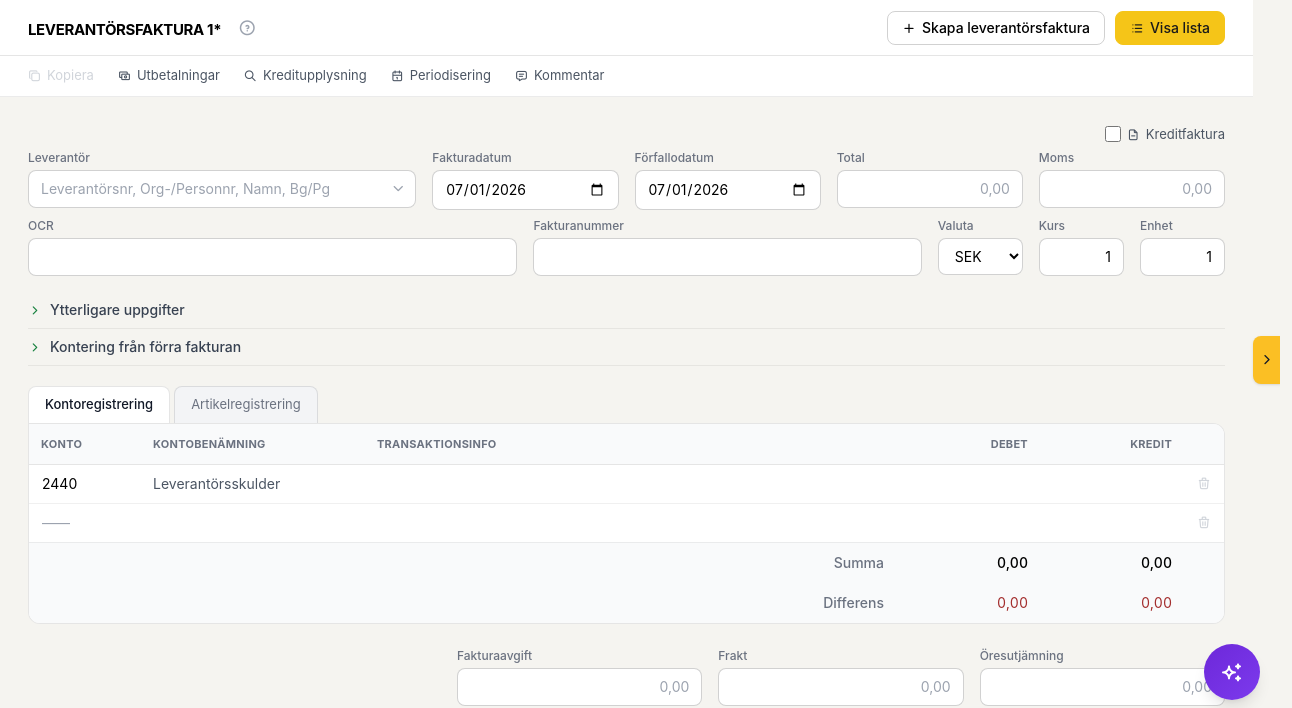
Test: Kontering från förra fakturan › ingen leverantör vald → vänligt läge, ingen tabell
Click the button "Kontering från förra fakturan".
click(146, 346)  # box [28, 329, 1225, 365]
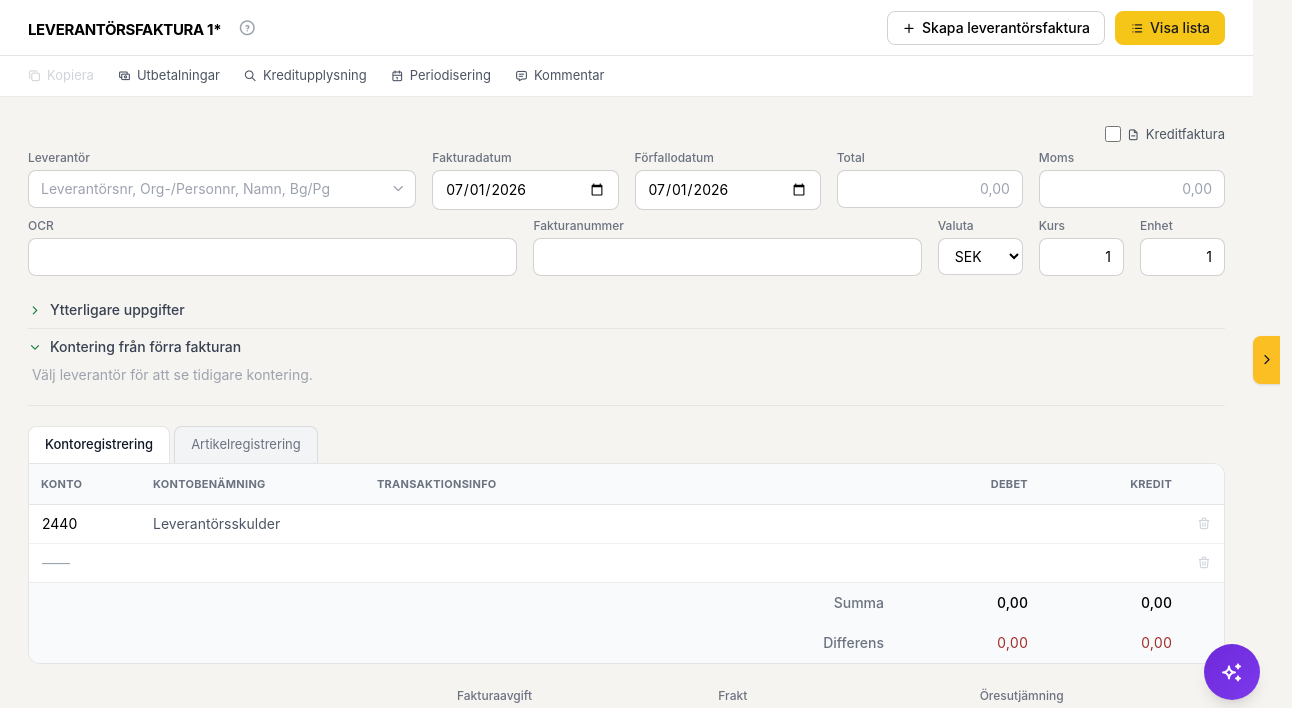
expect the text "Välj leverantör för att se tidigare kontering." is shown: met, box [32, 366, 313, 383]
